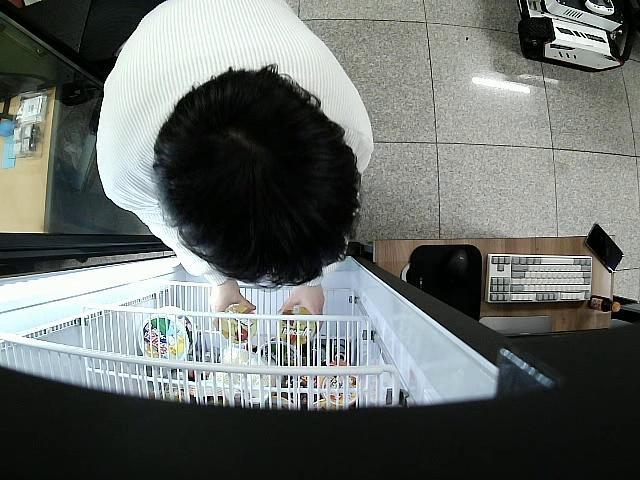04_chapagetti_S: (274, 306, 316, 344), (216, 304, 256, 342)
